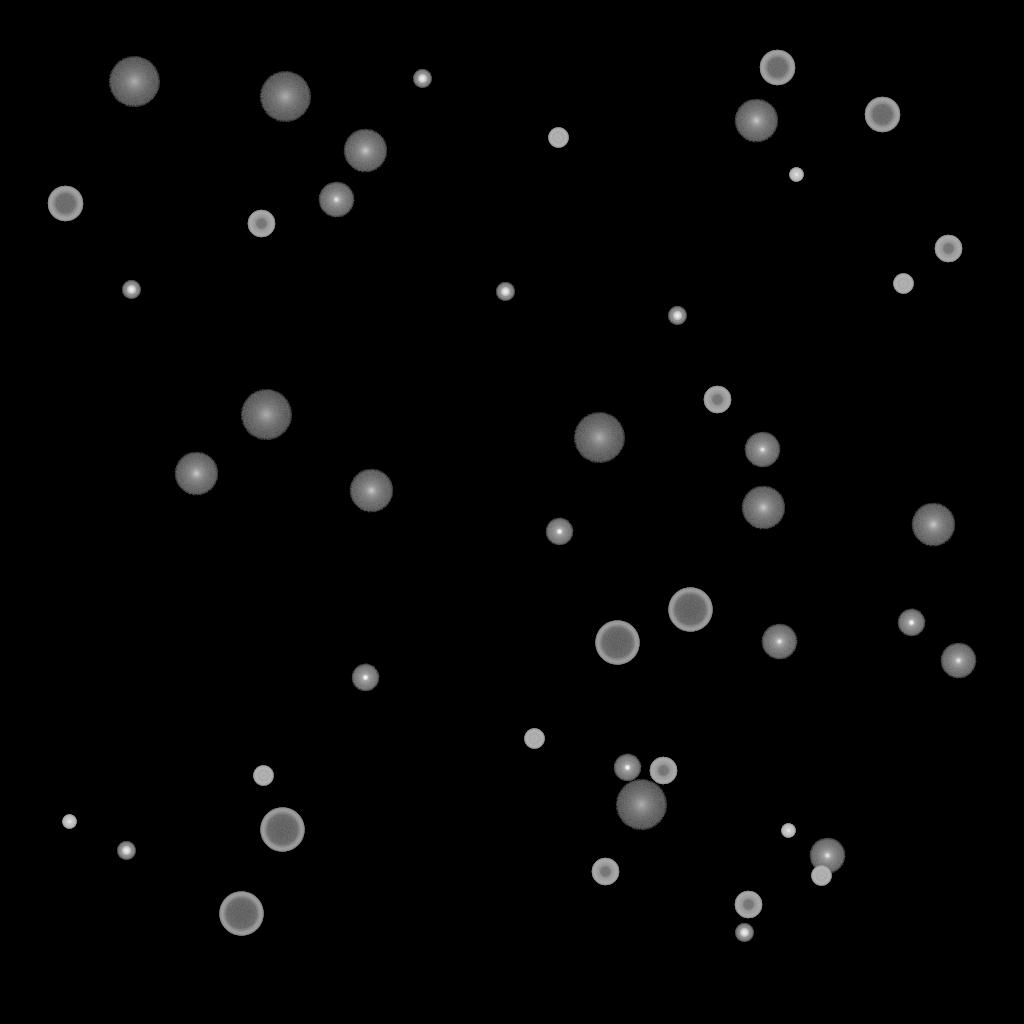depth:-10: (351, 664, 379, 692), (613, 754, 641, 782), (545, 518, 573, 546), (897, 609, 925, 637)
depth:-20: (117, 842, 135, 860), (496, 283, 514, 301), (413, 70, 431, 88), (122, 281, 140, 299), (668, 307, 686, 325), (735, 924, 753, 942)
depth:-30: (789, 168, 803, 182), (62, 815, 76, 829), (781, 824, 795, 838)
depth:-40: (253, 766, 273, 786), (811, 866, 831, 886), (893, 274, 913, 294), (548, 128, 568, 148), (524, 729, 544, 749)
depth:-50: (934, 235, 962, 263), (734, 891, 762, 919), (247, 210, 275, 238), (649, 757, 677, 785), (591, 858, 619, 886), (703, 386, 731, 414)
depth:-60: (47, 186, 83, 222), (864, 97, 900, 133), (759, 50, 795, 86)
depth:-70: (219, 892, 263, 936), (668, 588, 712, 632), (260, 808, 304, 852), (595, 621, 639, 665)
depth:0: (809, 838, 845, 874), (761, 624, 797, 660), (940, 643, 976, 679), (744, 432, 780, 468), (318, 182, 354, 218)
depth:10: (343, 129, 387, 173), (911, 503, 955, 547), (734, 99, 778, 143), (174, 452, 218, 496), (349, 469, 393, 513), (741, 486, 785, 530)
depth:20: (240, 390, 292, 440), (259, 72, 311, 122), (573, 413, 625, 463), (615, 780, 667, 830), (108, 57, 160, 107)
